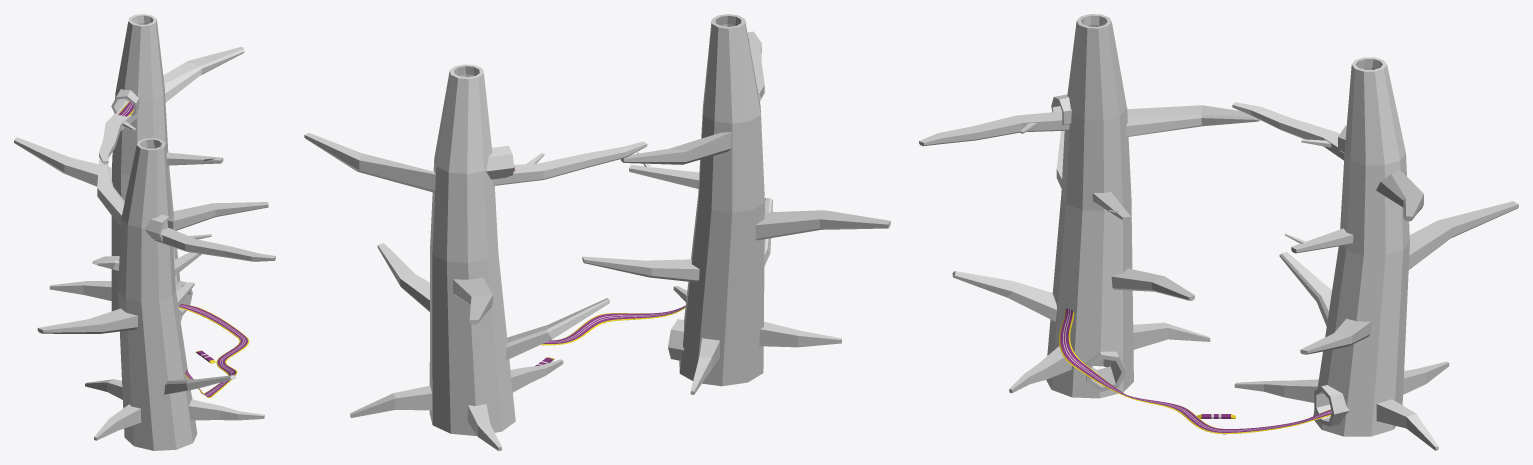
The model's file is oak-highway.fbx.
3 views of the same model, side by side, from view 1: azimuth 30°, elevation 25°; view 2: azimuth 150°, elevation 25°; view 3: azimuth 270°, elevation 25° (orthographic). The views are drawn at different scales.
Visible parts, largest first — view 1: Poly_Trunk_Cylinder.002, Poly_Trunk_Cylinder.003, Exit_Branch_Cube.003, Entry_Branch_Cube.011, Large_Lower_Branch.001_Cube.002, Large_Lower_Branch.001_Cube.004, Large_Lower_Branch.002_Cube.039, Road_Segment.001, Root_1.002_Cube.002, Entry_Branch_Cube.002, Exit_Branch_Cube.004, Root_1_Cube.008 (+8 smaller); view 2: Poly_Trunk_Cylinder.003, Poly_Trunk_Cylinder.002, Large_Lower_Branch.001_Cube.002, Entry_Branch_Cube.011, Exit_Branch_Cube.004, Entry_Branch_Cube.002, Large_Lower_Branch.002_Cube.002, Large_Lower_Branch.003_Cube.040, Root_1.001_Cube.009, Root_1_Cube.002, Large_Lower_Branch.002_Cube.039, Large_Lower_Branch.001_Cube.004 (+7 smaller); view 3: Poly_Trunk_Cylinder.002, Poly_Trunk_Cylinder.003, Entry_Branch_Cube.002, Exit_Branch_Cube.003, Large_Lower_Branch.001_Cube.004, Road_Segment.001, Large_Lower_Branch.003_Cube.002, Exit_Branch_Cube.004, Large_Lower_Branch.002_Cube.002, Entry_Branch_Cube.011, Root_1.001_Cube.009, Root_1.001_Cube.002 (+8 smaller).
Boxes of the visible parts, x1,y1,x2,y2 form: Poly_Trunk_Cylinder.002: (118,138,197,450); Poly_Trunk_Cylinder.003: (111,14,182,321); Exit_Branch_Cube.003: (155,228,275,261); Entry_Branch_Cube.011: (163,46,244,102); Large_Lower_Branch.001_Cube.002: (37,308,137,333); Large_Lower_Branch.001_Cube.004: (14,137,111,186); Large_Lower_Branch.002_Cube.039: (173,202,268,230); Road_Segment.001: (178,303,249,397); Root_1.002_Cube.002: (189,399,264,420); Entry_Branch_Cube.002: (97,157,124,227); Exit_Branch_Cube.004: (99,106,136,164); Root_1_Cube.008: (49,281,111,300); Poly_Trunk_Cylinder.003: (429,64,515,435); Poly_Trunk_Cylinder.002: (679,14,764,386); Large_Lower_Branch.001_Cube.002: (755,210,890,240); Entry_Branch_Cube.011: (304,133,435,192); Exit_Branch_Cube.004: (493,141,647,185); Entry_Branch_Cube.002: (620,132,731,164); Large_Lower_Branch.002_Cube.002: (582,256,699,282); Large_Lower_Branch.003_Cube.040: (505,298,609,360); Root_1.001_Cube.009: (350,385,432,417); Root_1_Cube.002: (759,321,841,347); Large_Lower_Branch.002_Cube.039: (377,243,429,311); Large_Lower_Branch.001_Cube.004: (453,277,492,324); Poly_Trunk_Cylinder.002: (1046,14,1133,398); Poly_Trunk_Cylinder.003: (1313,57,1409,436); Entry_Branch_Cube.002: (1125,105,1260,136); Exit_Branch_Cube.003: (919,111,1069,146); Large_Lower_Branch.001_Cube.004: (1408,201,1518,269); Road_Segment.001: (1059,308,1331,434); Large_Lower_Branch.003_Cube.002: (952,271,1056,321); Exit_Branch_Cube.004: (1232,102,1344,160); Large_Lower_Branch.002_Cube.002: (1111,268,1194,300); Entry_Branch_Cube.011: (1376,169,1423,221); Root_1.001_Cube.009: (1376,399,1438,450); Root_1.001_Cube.002: (1133,322,1210,349).
Bounding box in the file's own units: 7414 × 6307 × 9191.
